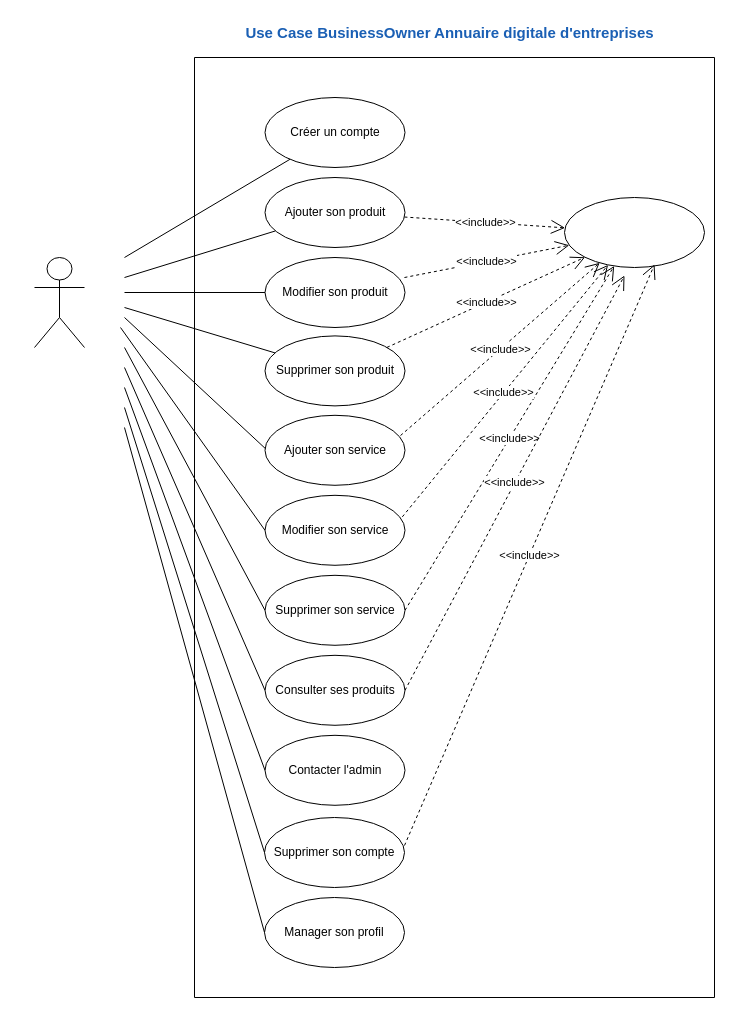
Some shapes in this 732 by 1015 pixel diagram are drawn without their labels. The shapes that lost their labels are listed below. From the top down, each one's centre as x and y in pixels, then its label:
At (x=634, y=232): "S'authentifier".
At (x=59, y=302): "BusinessOwner".
